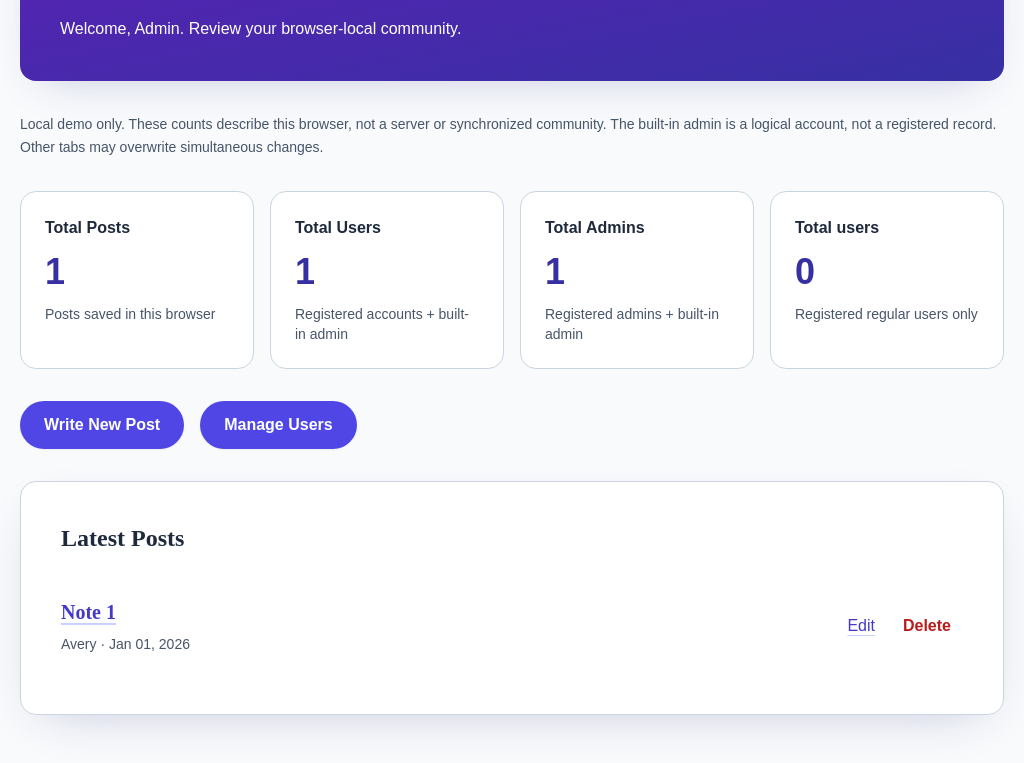
Test case: dashboard post deletion handles write without false success
This screenshot has width=1024, height=763.
(page scrolled)
Click the button with aria-label "Delete post: Note 1". click: click(927, 626)
box: x1=891 y1=604 x2=963 y2=648
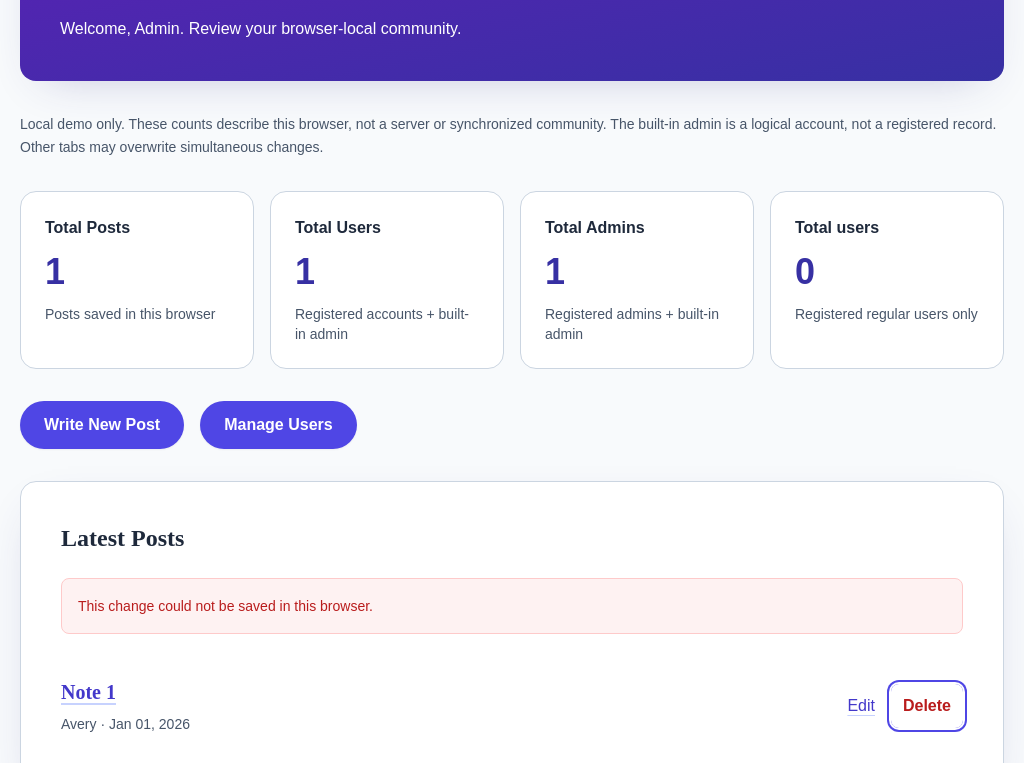
Expected: the text "1" below "Total Posts" is shown, x1=45 y1=250 x2=65 y2=292
Expected: the message "This change could not be saved in this browser." is shown, x1=61 y1=578 x2=963 y2=634
